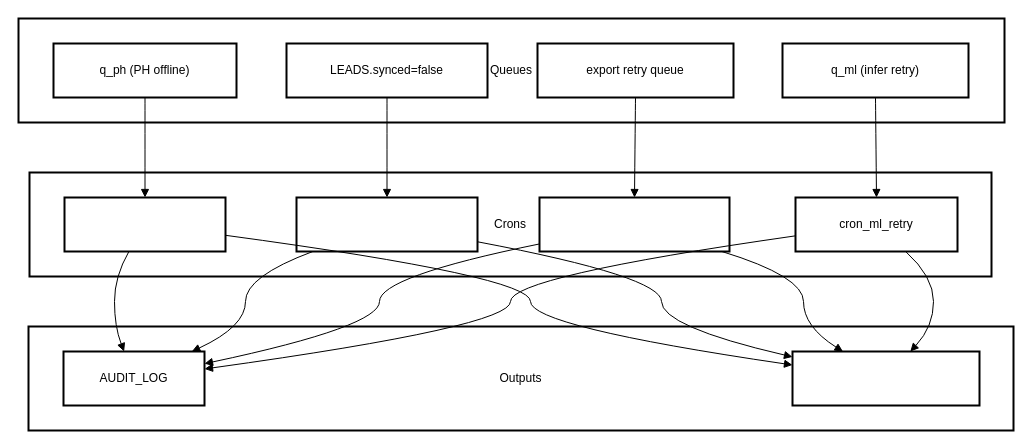
This 1031x448 diagram has some shape labels left out. Each missing label, with the centre of its shape:
cron_export_retry: point (634, 224)
cron_leads_retry: point (386, 224)
cron_ph_flush: point (144, 224)
Slack #quiz-alerts: point (885, 378)
